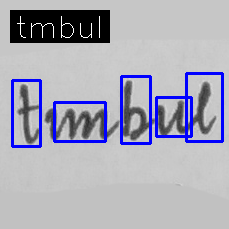b: (119, 77, 149, 141)
i: (42, 103, 61, 144)
l: (195, 79, 218, 136)
m: (63, 104, 109, 142)
t: (16, 81, 41, 145)
u: (153, 97, 187, 138)
